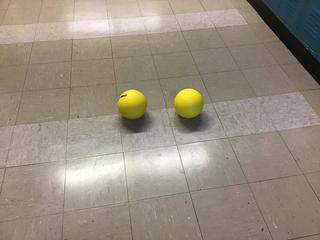power_cell: (172, 87, 206, 121), (117, 88, 149, 121)
